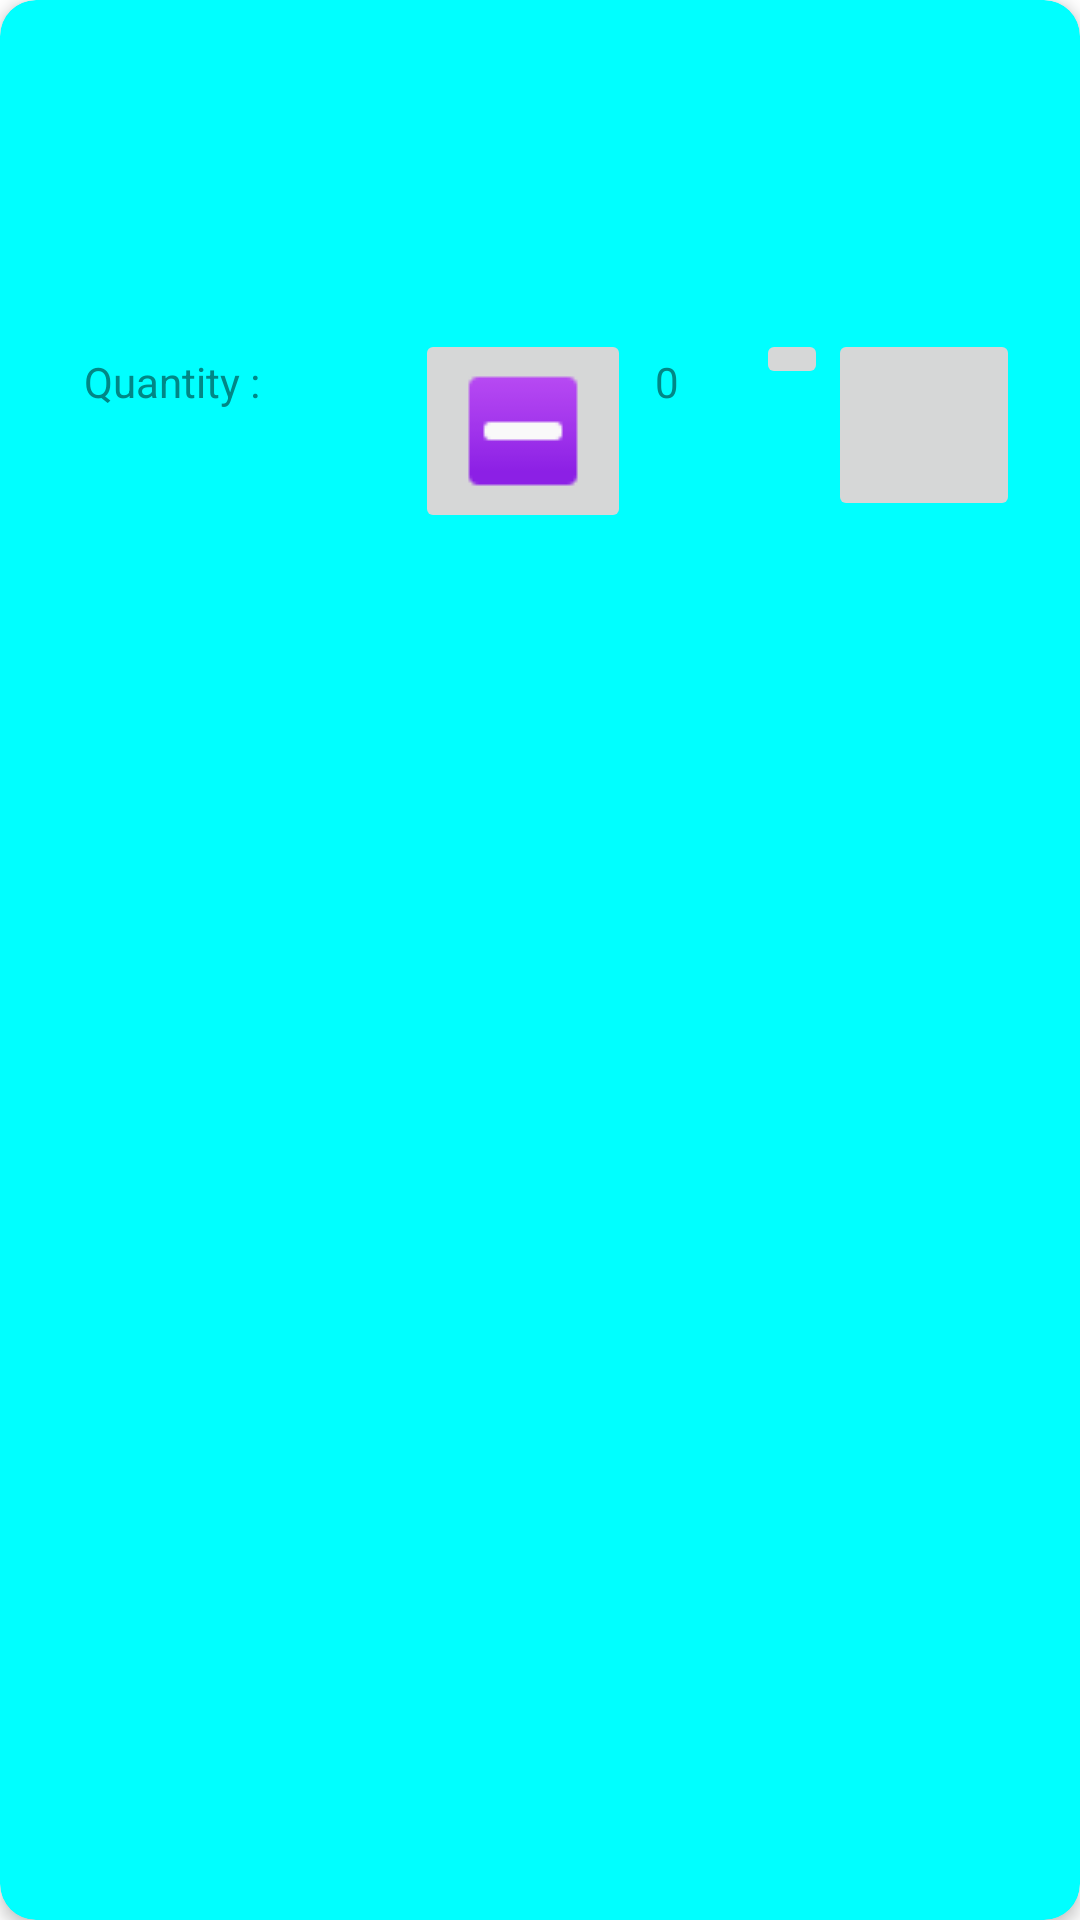

Named icons in this screenshot (1080 × 1920) and their centers, [x,y]:
reduce: [523,431]
